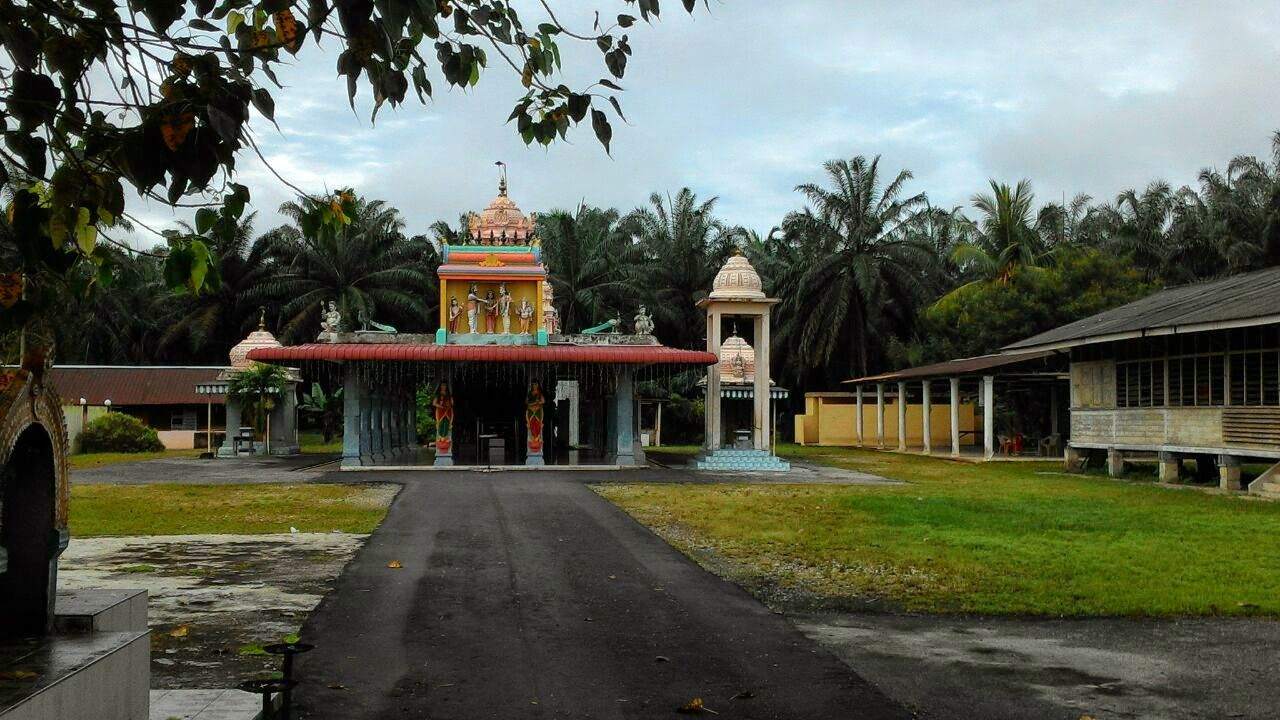Hindu Temple: (315, 178, 761, 459)
